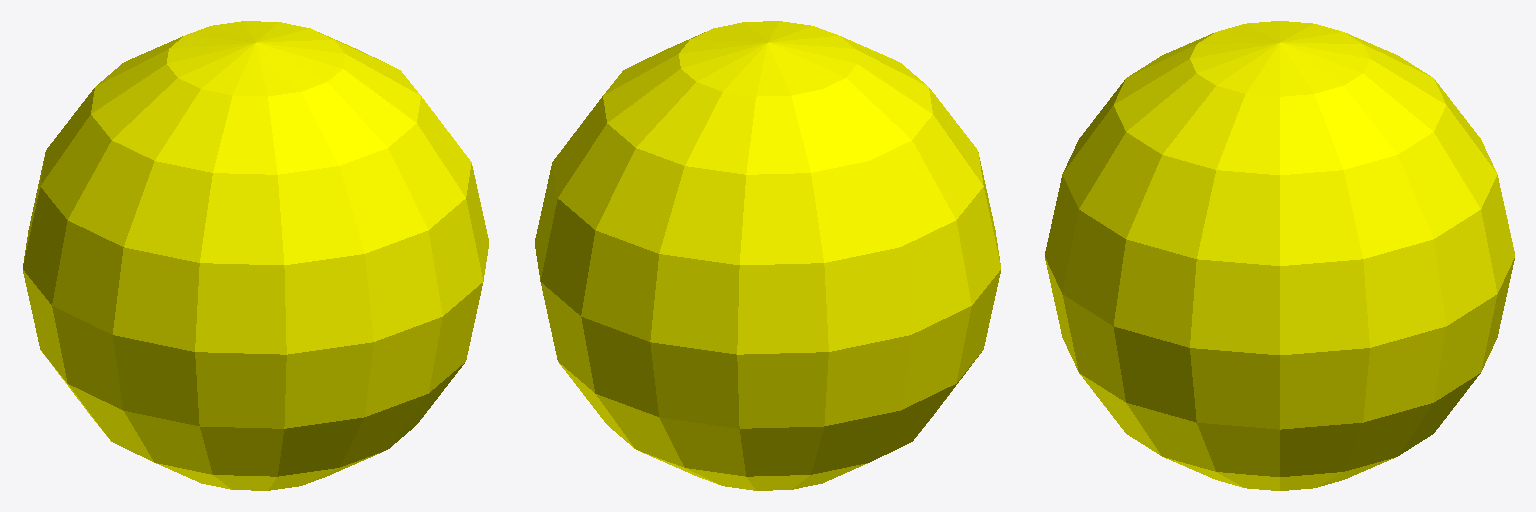
File: sun.obj
3 views of the same model, side by side, from view 1: azimuth 30°, elevation 25°; view 2: azimuth 150°, elevation 25°; view 3: azimuth 270°, elevation 25° (orthographic).
Parts seen in each view (by area): view 1: sphere; view 2: sphere; view 3: sphere.
Part boxes in pixels (left/top/right/bottom): sphere: left=23, top=21, right=488, bottom=490; sphere: left=535, top=21, right=1000, bottom=490; sphere: left=1045, top=21, right=1514, bottom=490.
Size of the model in its own units: 2 by 2 by 2.